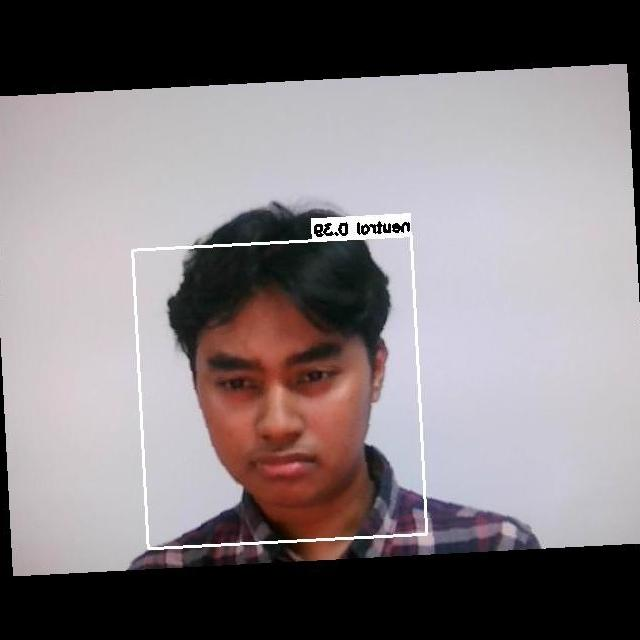Angry: (198, 325, 370, 495)
